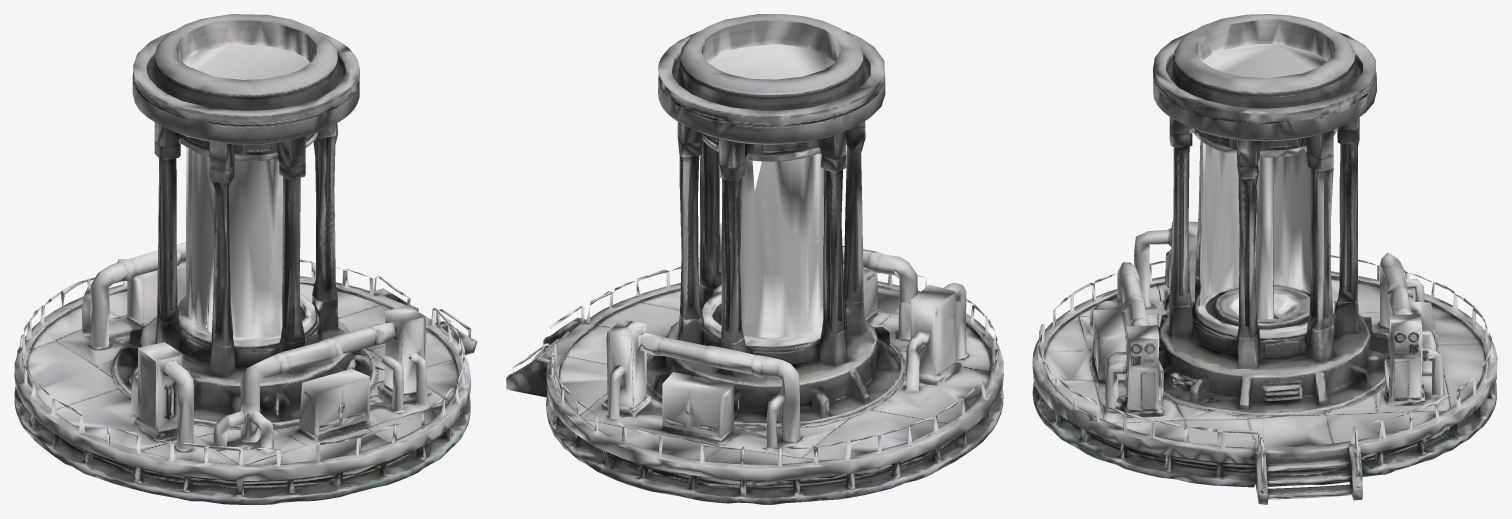
File: crystalReactor.glb
3 renders of one model, left to right at view 1: azimuth 30°, elevation 25°; view 2: azimuth 150°, elevation 25°; view 3: azimuth 270°, elevation 25°, orthographic. The views are drawn at different scales.
Parts seen in each view (by area): view 1: crystalReactor; view 2: crystalReactor; view 3: crystalReactor.
Boxes of the visible parts, x1,y1,x2,y2 form: crystalReactor: (14,14,477,504); crystalReactor: (506,14,1003,504); crystalReactor: (1032,14,1497,504).
Bounding box in the file's own units: 15.07 × 12 × 14.53.
1 material, 1 textured.
